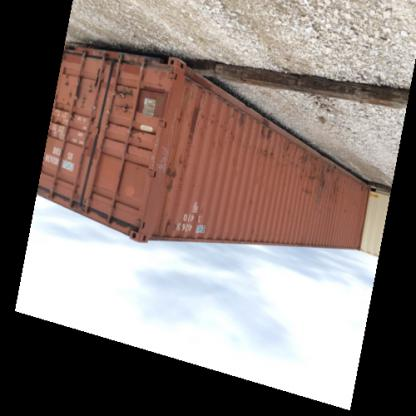Damage: (245, 120, 284, 162), (180, 100, 204, 150), (156, 158, 184, 194), (145, 66, 176, 94), (217, 114, 246, 142), (318, 164, 346, 193), (300, 157, 322, 189)
